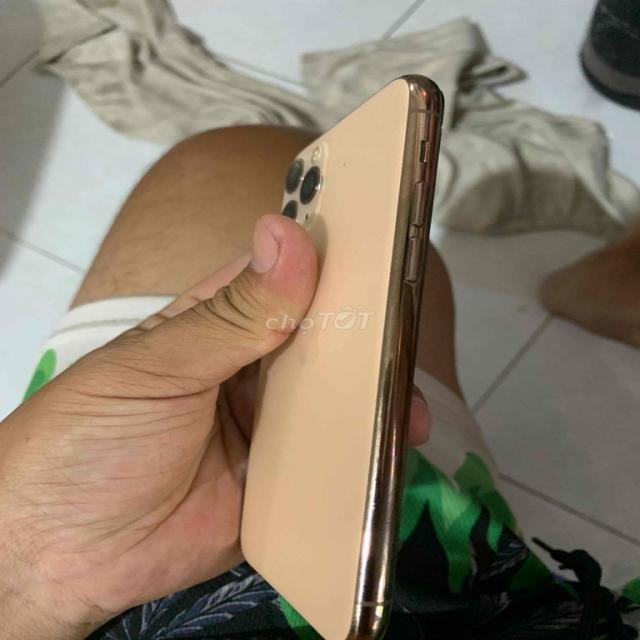gen_11: (218, 77, 446, 636)
